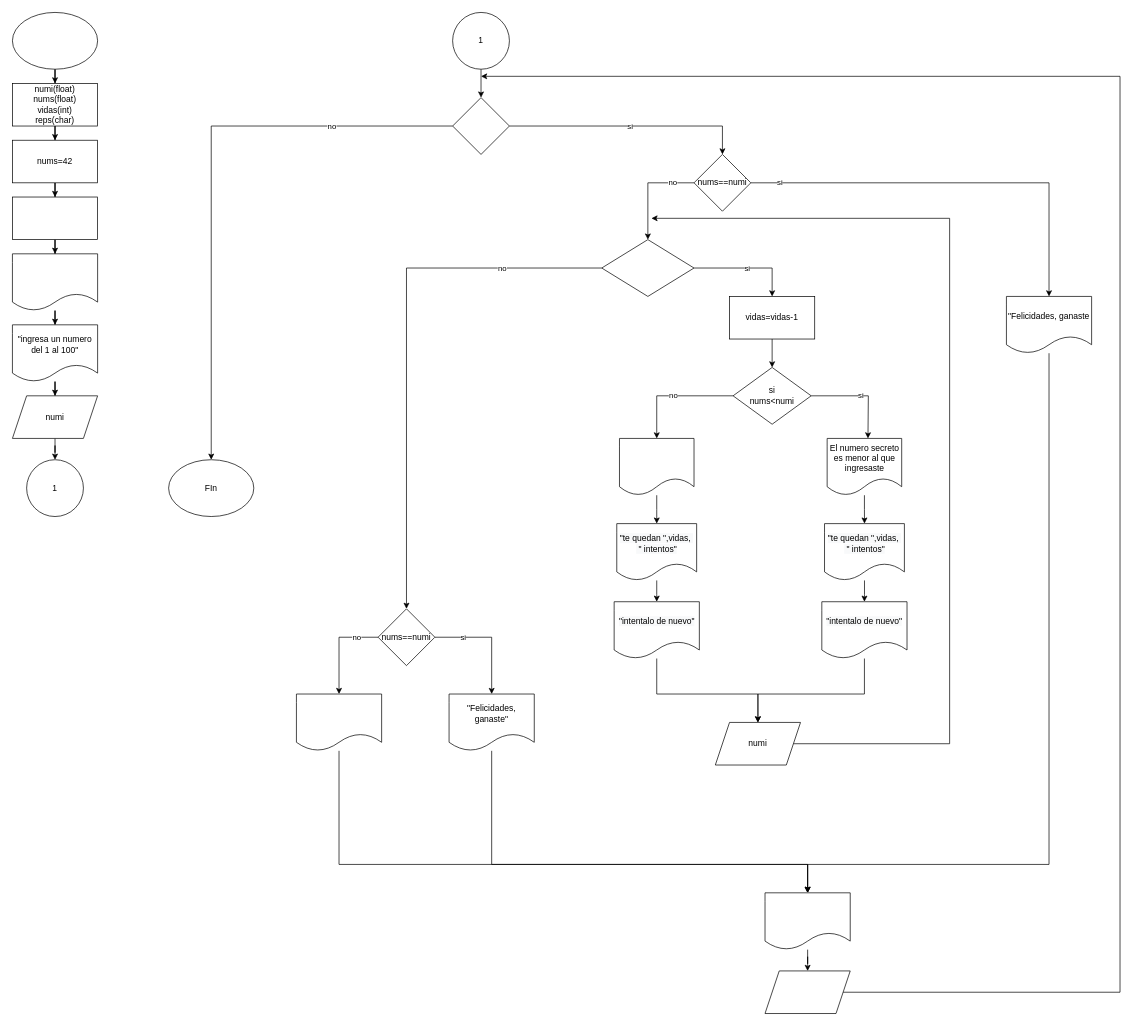
This 1138x1026 diagram has some shape labels left out. The centre of each missing label's shape, as x and y in pixels:
"Quieres jugar otra vez s/n": [807,921]
El numero secreto es mayor al que ingresaste: [656,466]
inicio: [55,40]
mientras nums<>numi y vidas<>0: [647,267]
mientras reps<>"n": [480,125]
No pudiste adivinar el numero y te quedaste sin intentos, has perdido": [339,722]
Pantalla de incio: [55,282]
reps: [807,992]
vidas=5: [55,218]
